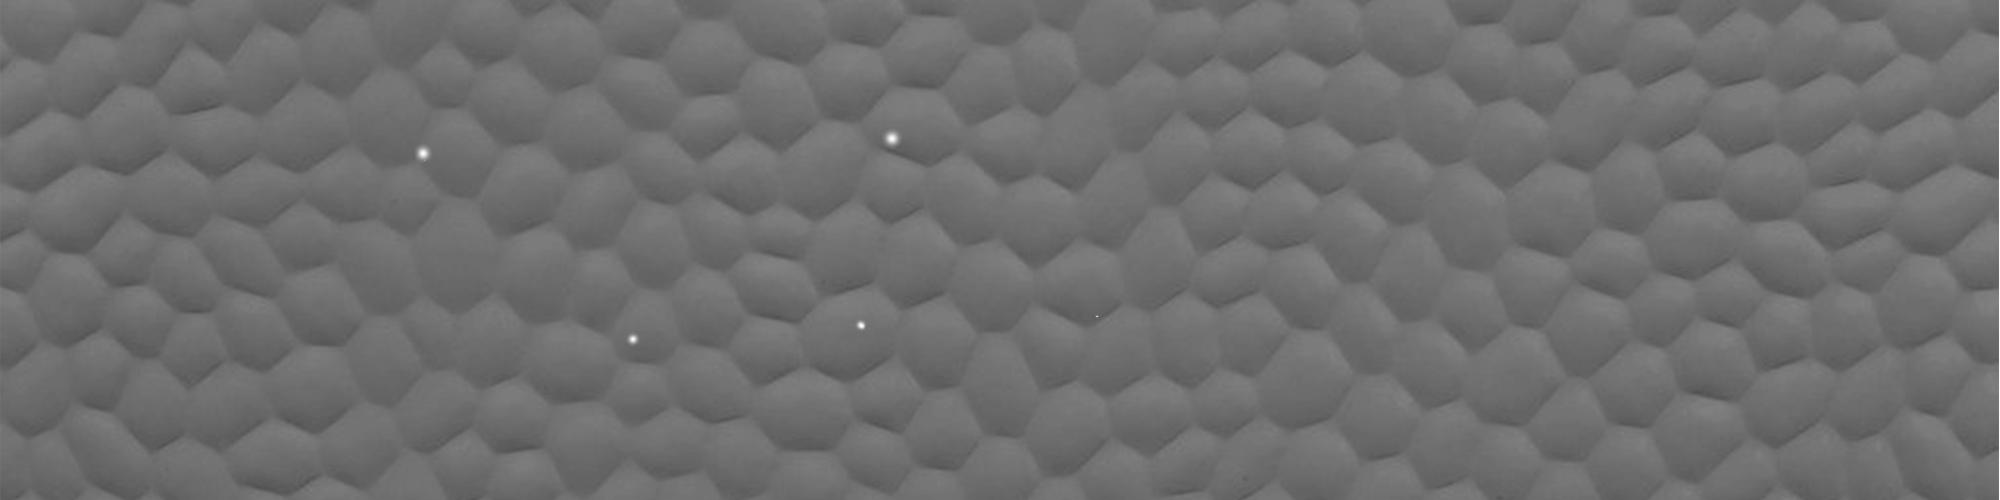Particles: (879, 129, 901, 152), (412, 144, 434, 165), (622, 332, 643, 352), (852, 315, 869, 333), (1089, 312, 1103, 321)
